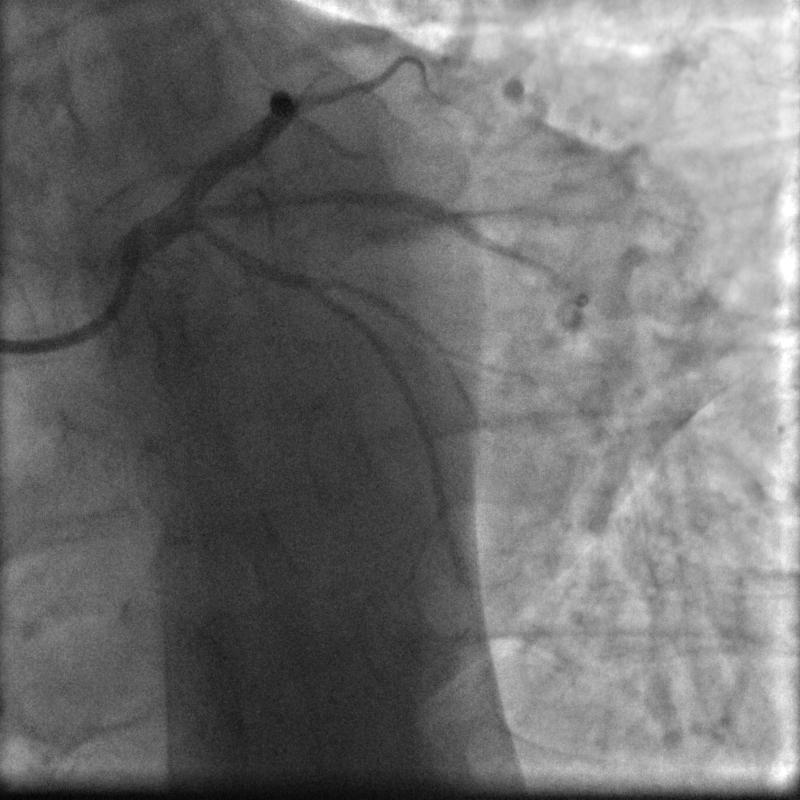Stenosis: (281, 83, 340, 126)
